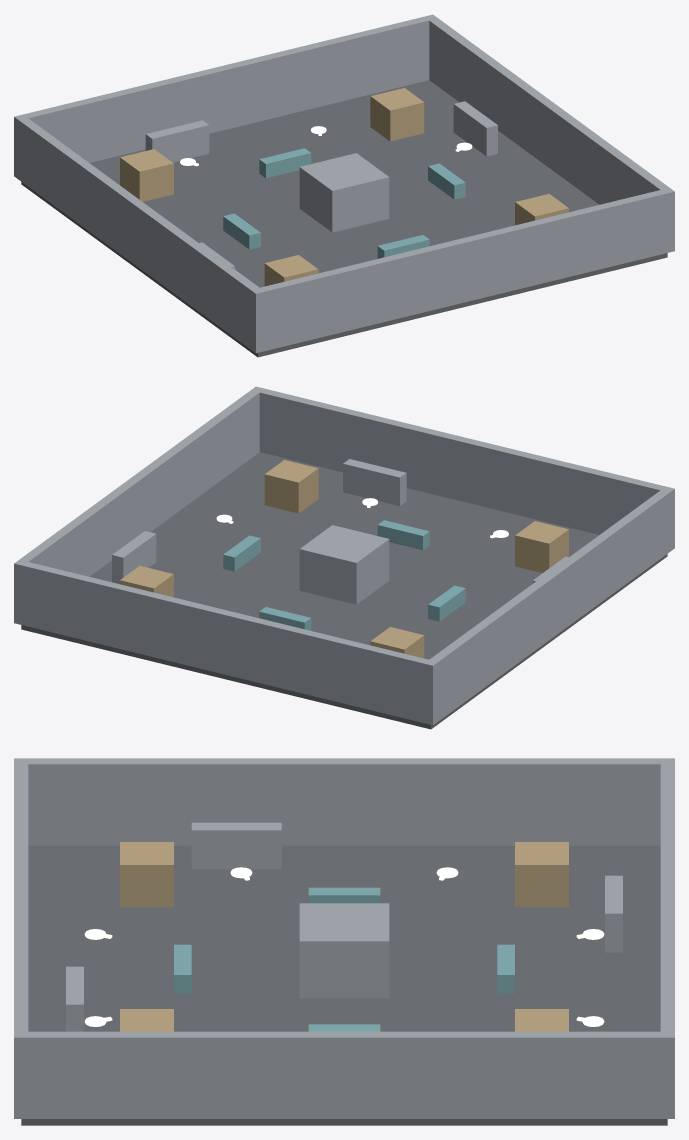
File: crossfire_box.glb
The picture shows the model from 3 angles, top to bottom: view 1: azimuth 30°, elevation 25°; view 2: azimuth 150°, elevation 25°; view 3: azimuth 270°, elevation 25°; orthographic projection. The views are drawn at different scales.
Parts seen in each view (by area): view 1: floor, perimeter.S0, perimeter.N0, perimeter.W0, perimeter.E0, centre_block, corner_box_0, corner_box_90, edge_wall_90, edge_wall_0, corner_box_180, corner_box_270 (+4 smaller); view 2: floor, perimeter.N0, perimeter.S0, perimeter.W0, perimeter.E0, centre_block, corner_box_270, edge_wall_270, corner_box_180, edge_wall_0, corner_box_90, corner_box_0 (+4 smaller); view 3: floor, perimeter.E0, perimeter.W0, centre_block, perimeter.S0, perimeter.N0, edge_wall_180, corner_box_90, corner_box_180, edge_wall_90, corner_box_0, corner_box_270 (+5 smaller).
Part boxes in pixels (left/top/right/bottom): floor: left=21, top=80, right=667, bottom=357; perimeter.S0: left=250, top=188, right=674, bottom=353; perimeter.N0: left=14, top=14, right=437, bottom=179; perimeter.W0: left=14, top=116, right=264, bottom=352; perimeter.E0: left=425, top=16, right=674, bottom=253; centre_block: left=299, top=153, right=389, bottom=232; corner_box_0: left=370, top=88, right=424, bottom=141; corner_box_90: left=120, top=149, right=173, bottom=201; edge_wall_90: left=145, top=120, right=209, bottom=162; edge_wall_0: left=453, top=101, right=497, bottom=156; corner_box_180: left=264, top=255, right=318, bottom=286; corner_box_270: left=515, top=194, right=568, bottom=225; floor: left=21, top=452, right=667, bottom=729; perimeter.N0: left=14, top=560, right=438, bottom=725; perimeter.S0: left=251, top=386, right=674, bottom=547; perimeter.W0: left=424, top=489, right=674, bottom=724; perimeter.E0: left=14, top=387, right=263, bottom=624; centre_block: left=299, top=525, right=389, bottom=604; corner_box_270: left=264, top=460, right=318, bottom=513; edge_wall_270: left=343, top=459, right=406, bottom=505; corner_box_180: left=515, top=521, right=568, bottom=572; edge_wall_0: left=112, top=531, right=156, bottom=584; corner_box_90: left=370, top=627, right=424, bottom=658; corner_box_0: left=120, top=566, right=173, bottom=597; floor: left=21, top=845, right=667, bottom=1125; perimeter.E0: left=14, top=1031, right=674, bottom=1118; perimeter.W0: left=14, top=758, right=674, bottom=845; centre_block: left=299, top=903, right=389, bottom=998; perimeter.S0: left=14, top=758, right=28, bottom=1118; perimeter.N0: left=660, top=758, right=674, bottom=1118; edge_wall_180: left=191, top=822, right=281, bottom=869; corner_box_90: left=515, top=842, right=568, bottom=907; corner_box_180: left=120, top=842, right=173, bottom=907; edge_wall_90: left=605, top=875, right=622, bottom=952; corner_box_0: left=515, top=1009, right=568, bottom=1031; corner_box_270: left=120, top=1009, right=173, bottom=1031.
Size of the model in its own units: 36.8 by 5.6 by 36.8.
